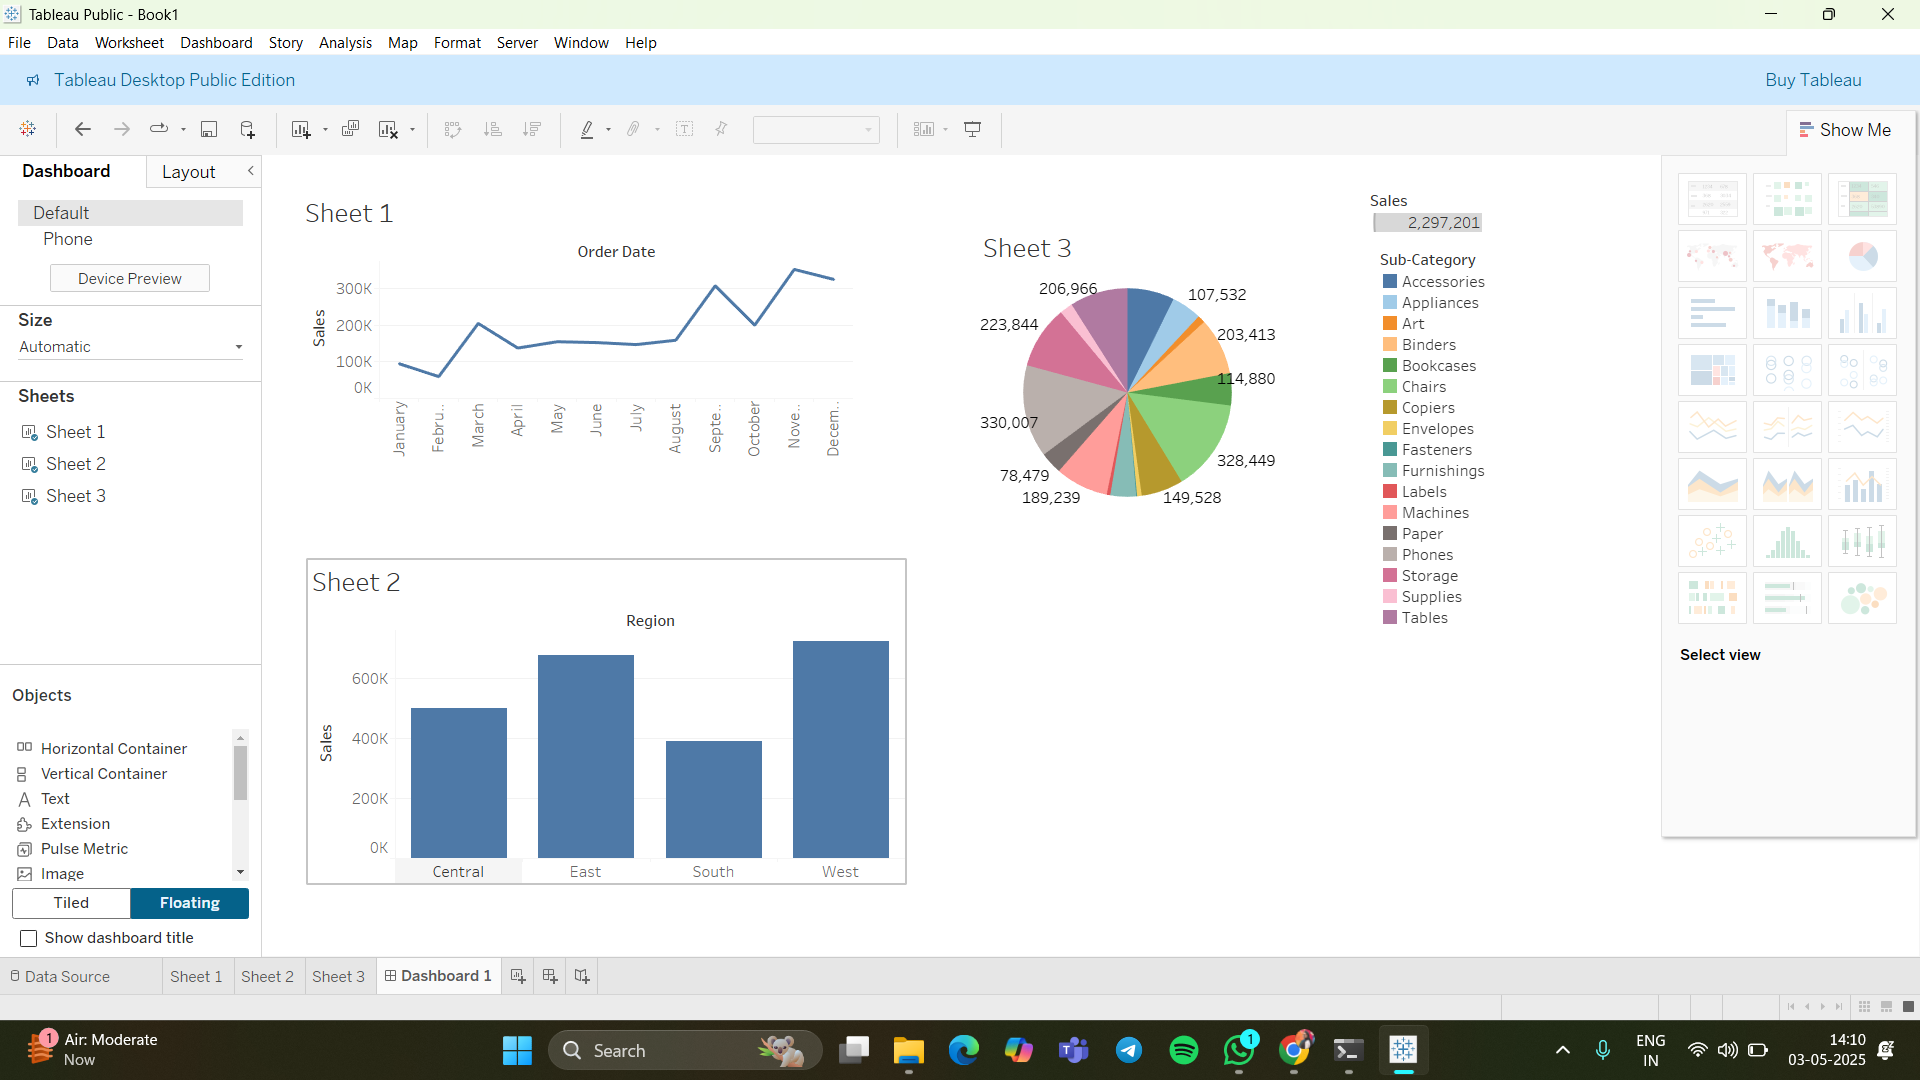

The dashboard page shown, as its layout file describes it:
{"tool":"tableau","page":{"name":"Dashboard 1","canvas":[1000,1000],"units":"permille","ordinal":0},"visuals":[{"type":"legend","title":"Sheet 3","param":"[federated.183qhyj1dasz6716432tl1qmbu8s].[sum:Sales:qk]","box":[668.7,43.7,68.8,63.7]},{"type":"worksheet","title":"Sheet 1","mark":"Automatic","rows":["Sales"],"cols":["Order Date"],"box":[23.5,44.9,333.1,333.3]},{"type":"worksheet","title":"Sheet 3","mark":"Pie","box":[432.7,88.6,304.8,402]},{"type":"legend","title":"Sheet 3","param":"[federated.183qhyj1dasz6716432tl1qmbu8s].[none:Sub-Category:nk]","box":[674.7,117.4,84.5,473.2]},{"type":"worksheet","title":"Sheet 2","mark":"Automatic","rows":["Sales"],"cols":["Region"],"box":[27.8,505.6,360.3,403.2]}]}

Visuals, with their boxes on the dashboard's canvas, which has no fixed pixel size, in thousandths of its width and height (x1, y1, x2, y2). These are canvas units, not pixel positions in the 1920x1080 screenshot, which may show the page scaled, cropped or inside an application window:
"Sheet 3" legend: BBox(669, 44, 738, 107)
"Sheet 1" worksheet: BBox(24, 45, 357, 378)
"Sheet 3" worksheet (Pie marks): BBox(433, 89, 738, 491)
"Sheet 3" legend: BBox(675, 117, 759, 591)
"Sheet 2" worksheet: BBox(28, 506, 388, 909)
